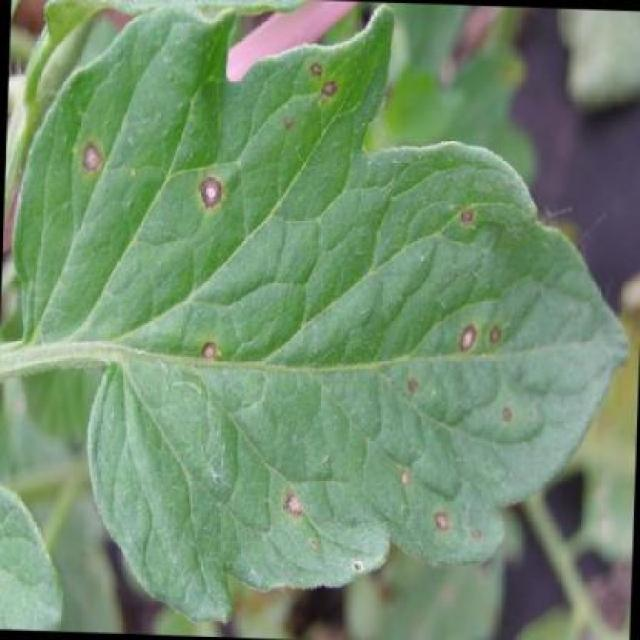Septoria leaf spot: (57, 42, 511, 546)
